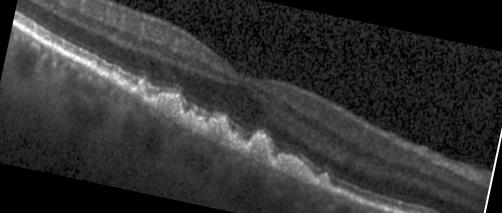retinal_drusen: (272, 154, 311, 181), (244, 133, 271, 165), (150, 93, 180, 120), (206, 116, 229, 142), (317, 172, 329, 188), (230, 134, 243, 148), (103, 73, 118, 85), (182, 112, 195, 125), (132, 86, 144, 100), (194, 118, 206, 129), (87, 62, 96, 70), (122, 82, 131, 90)
